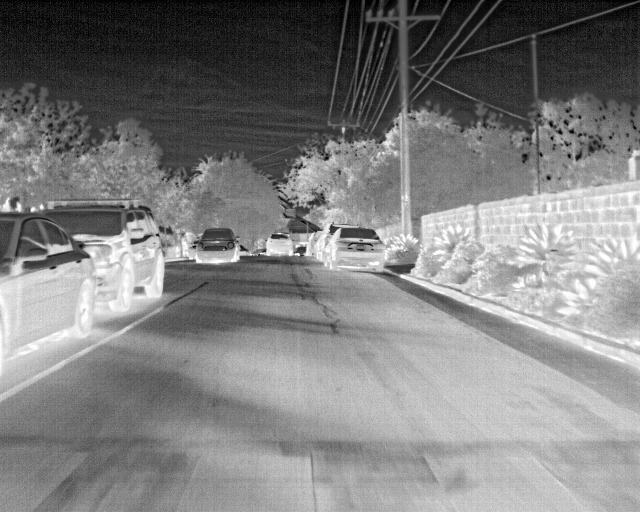car: (43, 202, 167, 314), (1, 211, 96, 357), (324, 225, 386, 273), (195, 226, 240, 264), (266, 232, 293, 256), (315, 225, 334, 257), (303, 228, 318, 255), (294, 240, 307, 254)
